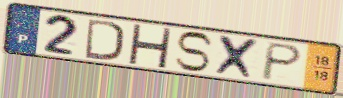2: (41, 13, 81, 59)
D: (84, 17, 126, 63)
H: (126, 22, 174, 70)
P: (259, 41, 305, 83)
S: (172, 30, 216, 73)
X: (212, 33, 263, 82)
